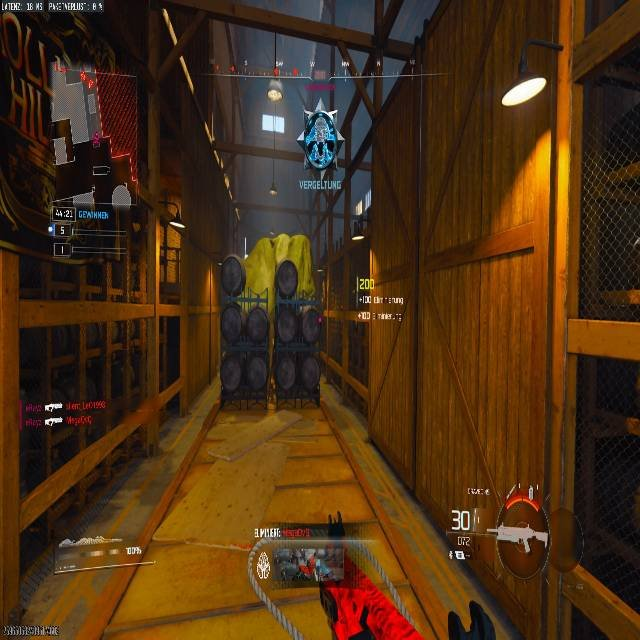head: (241, 232, 314, 301)
player: (299, 104, 340, 211)
